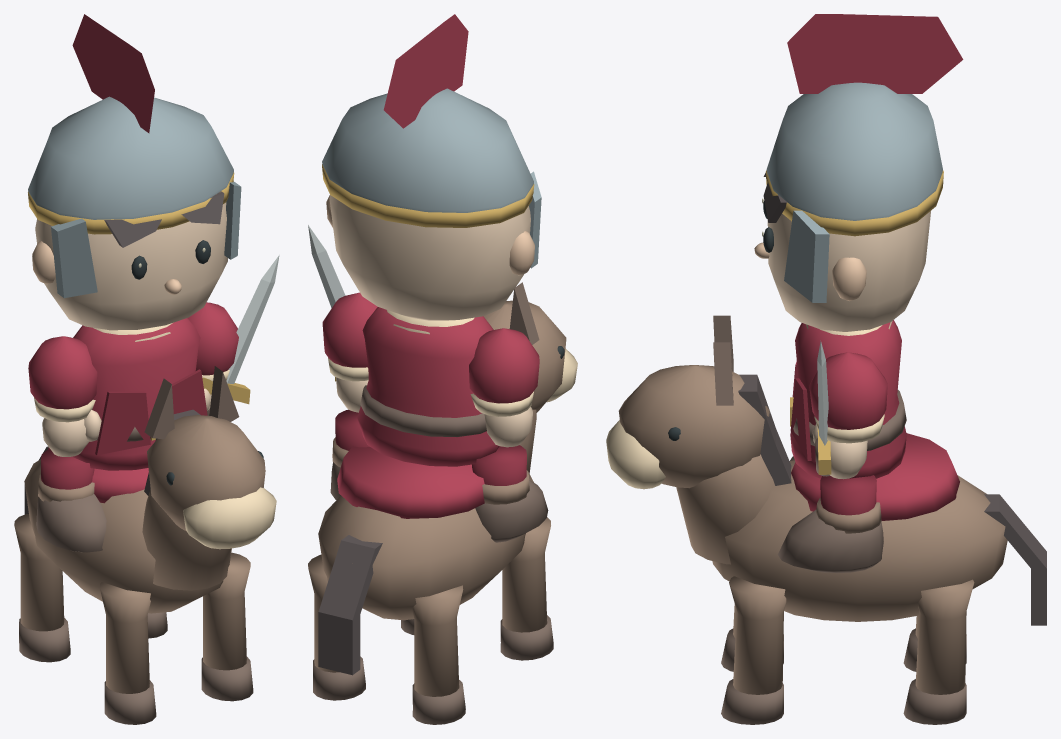
Rendered from rider.glb.
3 views of the same model, side by side, from view 1: azimuth 30°, elevation 25°; view 2: azimuth 150°, elevation 25°; view 3: azimuth 270°, elevation 25° (orthographic). The views are drawn at different scales.
Visible parts, largest first — view 1: Regional helmet, Soft cheek head, Pony head, Short folded tunic, Plump pony body, Roman horsehair fan, Pony neck, Pony stubby leg, Pony stubby leg.001, Puff sleeve, Pony muzzle, Pony stubby leg.002 (+23 smaller); view 2: Regional helmet, Soft cheek head, Short folded tunic, Plump pony body, Saddle blanket, Pony tail, Roman horsehair fan, Pony stubby leg.002, Puff sleeve, Pony stubby leg, Helmet brow band, Puff sleeve.001 (+20 smaller); view 3: Plump pony body, Regional helmet, Pony head, Roman horsehair fan, Soft cheek head, Short folded tunic, Pony neck, Saddle blanket, Pony stubby leg.001, Pony stubby leg.003, Puff sleeve.001, Round leather boot.001 (+16 smaller).
Boxes of the visible parts, <box> form: Regional helmet: <box>28,96,233,219</box>; Soft cheek head: <box>35,202,227,330</box>; Pony head: <box>147,415,265,531</box>; Short folded tunic: <box>72,318,200,470</box>; Plump pony body: <box>24,459,231,613</box>; Roman horsehair fan: <box>72,14,154,133</box>; Pony neck: <box>142,490,230,590</box>; Pony stubby leg: <box>100,582,150,693</box>; Pony stubby leg.001: <box>203,552,250,670</box>; Puff sleeve: <box>28,336,97,409</box>; Pony muzzle: <box>183,487,276,549</box>; Pony stubby leg.002: <box>14,513,64,631</box>; Regional helmet: <box>322,88,533,212</box>; Soft cheek head: <box>329,195,530,320</box>; Short folded tunic: <box>357,307,499,466</box>; Plump pony body: <box>318,472,533,620</box>; Saddle blanket: <box>337,446,484,518</box>; Pony tail: <box>318,535,382,675</box>; Roman horsehair fan: <box>383,14,468,128</box>; Pony stubby leg.002: <box>412,585,463,696</box>; Puff sleeve: <box>469,328,539,403</box>; Pony stubby leg: <box>502,517,550,632</box>; Helmet brow band: <box>322,164,534,227</box>; Puff sleeve.001: <box>322,292,377,367</box>; Plump pony body: <box>712,460,1007,621</box>; Regional helmet: <box>766,82,942,220</box>; Pony head: <box>618,365,769,488</box>; Roman horsehair fan: <box>787,14,963,93</box>; Soft cheek head: <box>767,211,930,331</box>; Short folded tunic: <box>790,320,906,478</box>; Pony neck: <box>676,454,774,564</box>; Saddle blanket: <box>791,433,959,520</box>; Pony stubby leg.001: <box>729,576,786,694</box>; Pony stubby leg.003: <box>915,579,974,694</box>; Puff sleeve.001: <box>809,352,887,429</box>; Round leather boot.001: <box>777,510,883,573</box>.
Size of the model in its own units: 0.9142 by 2.35 by 1.4.
